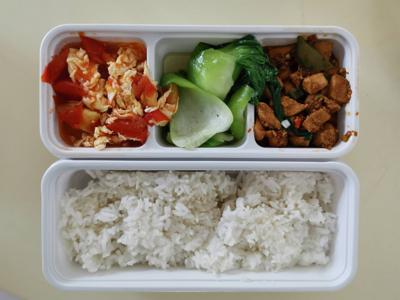jdxhs: (48, 32, 150, 144)
jrtd: (253, 33, 356, 159)
rice: (60, 171, 344, 273)
yc: (153, 35, 256, 151)
